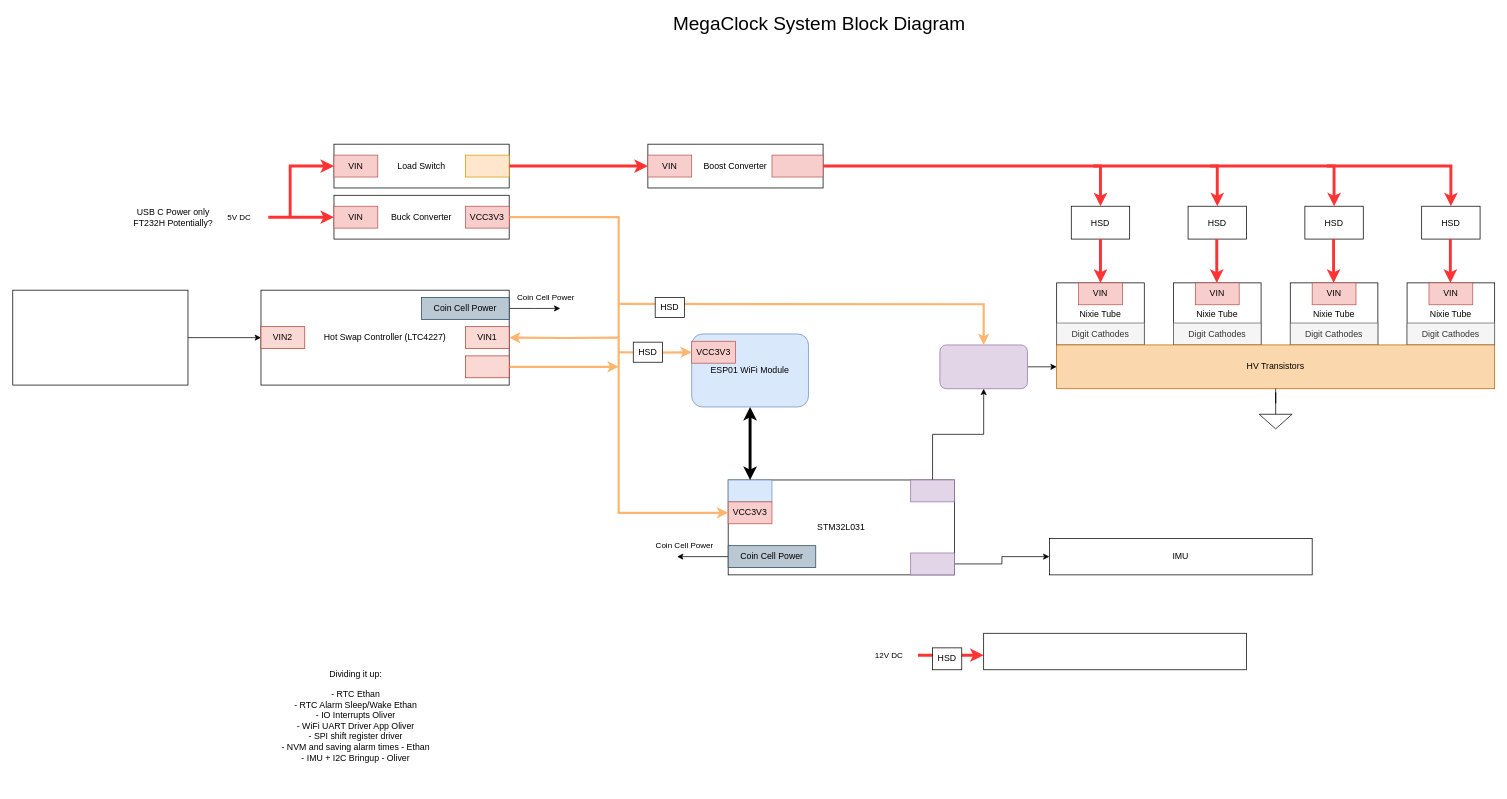
This 1507x799 diagram has some shape labels left out. Each missing label, with the centre of its shape:
Buzzer (If digital audio circuit does not work): the point at 1114,651
Coin Cell Battery: the point at 100,337
I2C: the point at 932,563
Shift Register Gate Drive: the point at 983,366
SPI: the point at 932,490
UART: the point at 749,490
VCC170V0: the point at 797,165
VINT: the point at 487,366
VOUT: the point at 487,165
